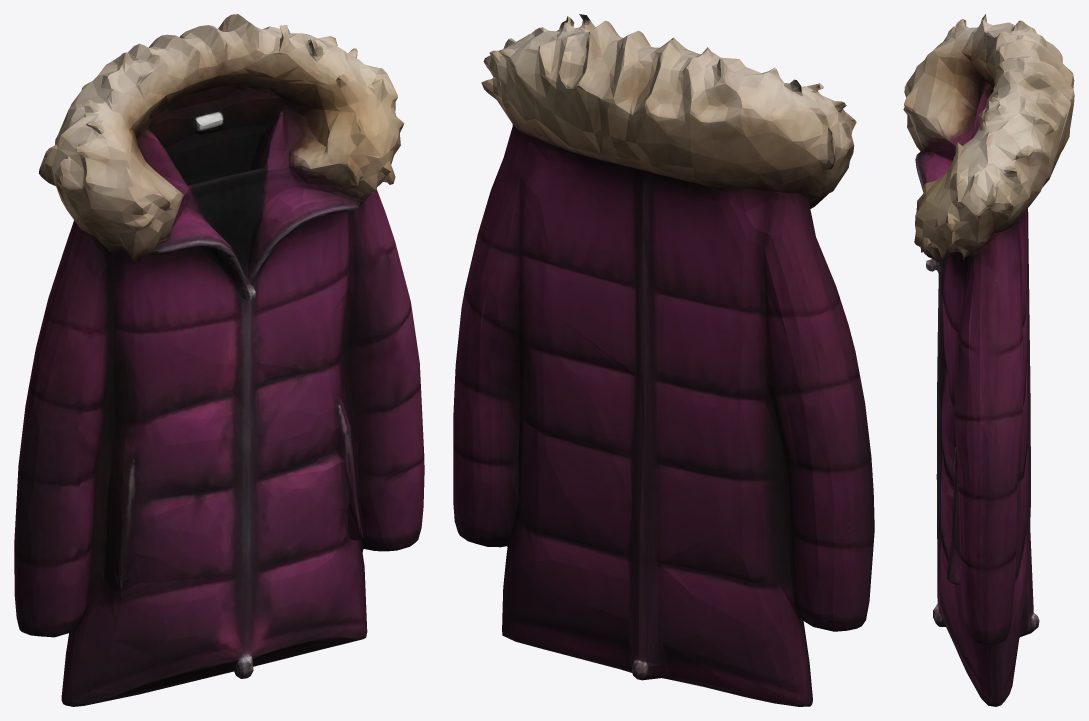
3 views of the same model, side by side, from view 1: azimuth 30°, elevation 25°; view 2: azimuth 150°, elevation 25°; view 3: azimuth 270°, elevation 25° (orthographic). The views are drawn at different scales.
Parts seen in each view (by area): view 1: geometry_0; view 2: geometry_0; view 3: geometry_0.
Boxes of the visible parts, x1,y1,x2,y2 form: geometry_0: (14,14,424,706); geometry_0: (453,14,874,706); geometry_0: (903,14,1074,706).
Size of the model in its own units: 0.6702 by 0.9988 by 0.2636.
1 material, 1 textured.
